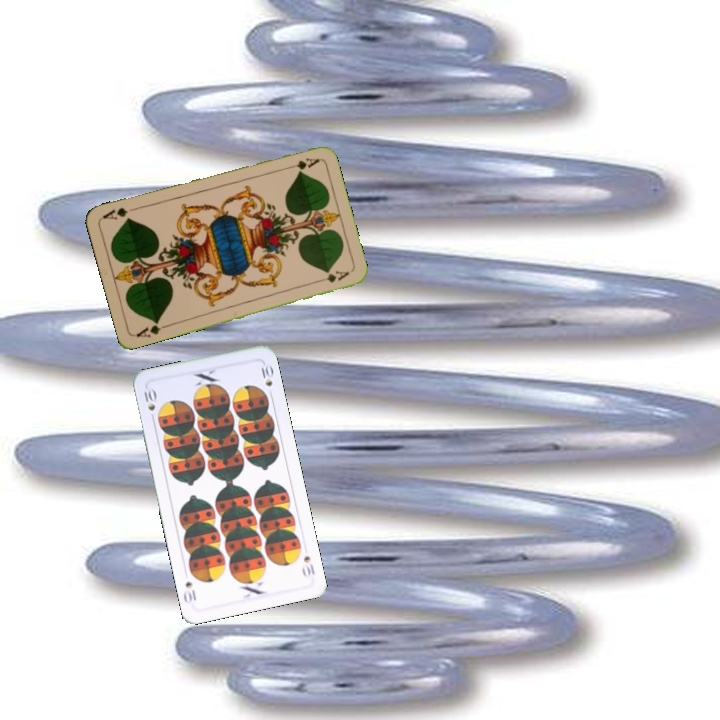GA: (132, 317, 172, 340), (281, 154, 321, 173)
S10: (298, 551, 317, 581), (140, 384, 158, 413)
